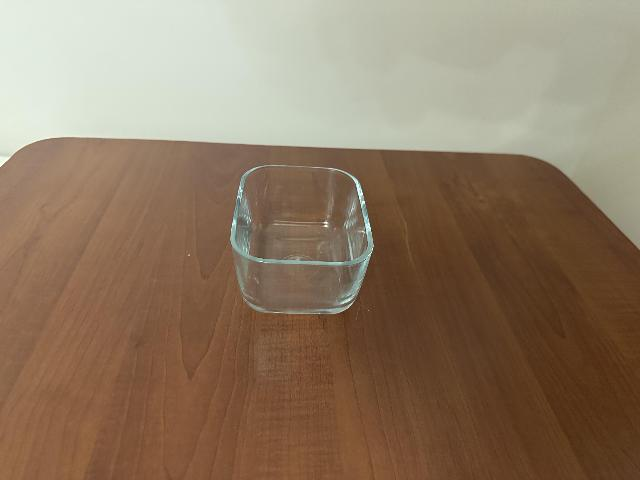Cam: (231, 164, 375, 317)
